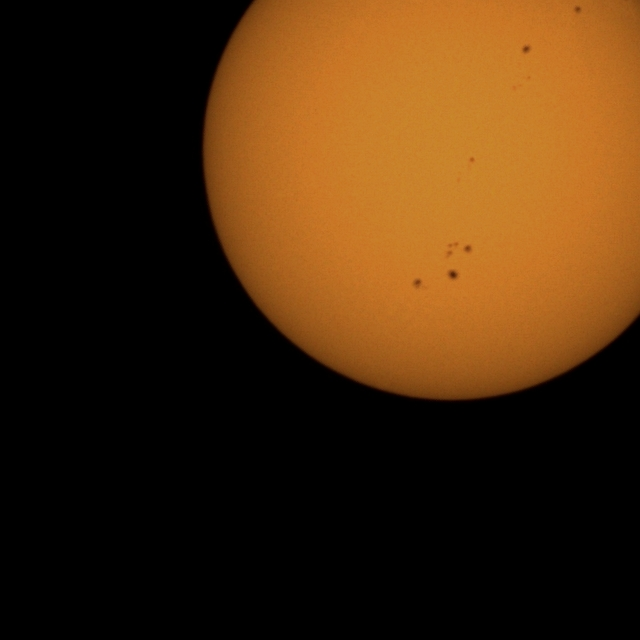sunspot: (443, 241, 473, 261), (511, 76, 531, 91), (411, 277, 426, 292), (447, 268, 460, 281), (462, 243, 473, 255), (521, 43, 532, 55), (573, 4, 582, 15), (469, 156, 476, 164), (526, 75, 531, 80)
